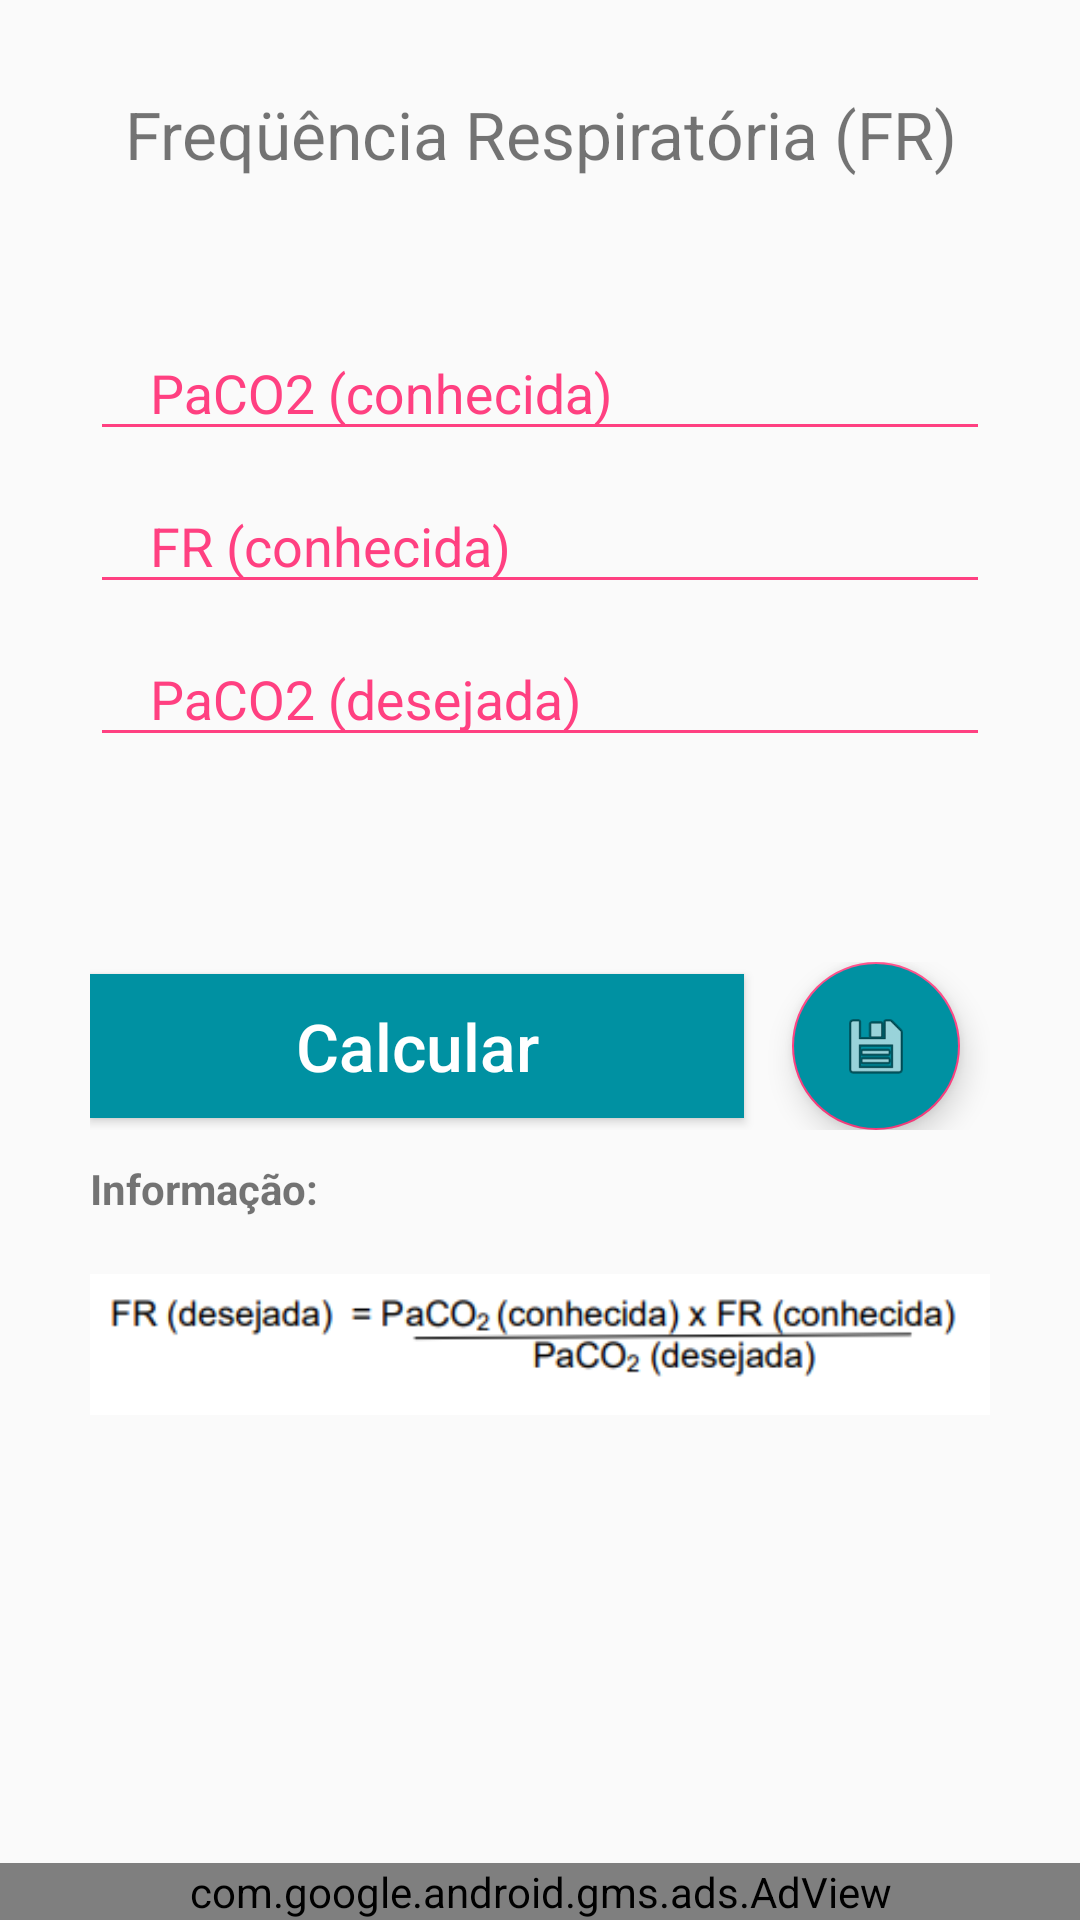

Where icons sit on this 1080px×1920px app screen, as (x1, y1, x2, y2):
save: (792, 962, 960, 1130)
